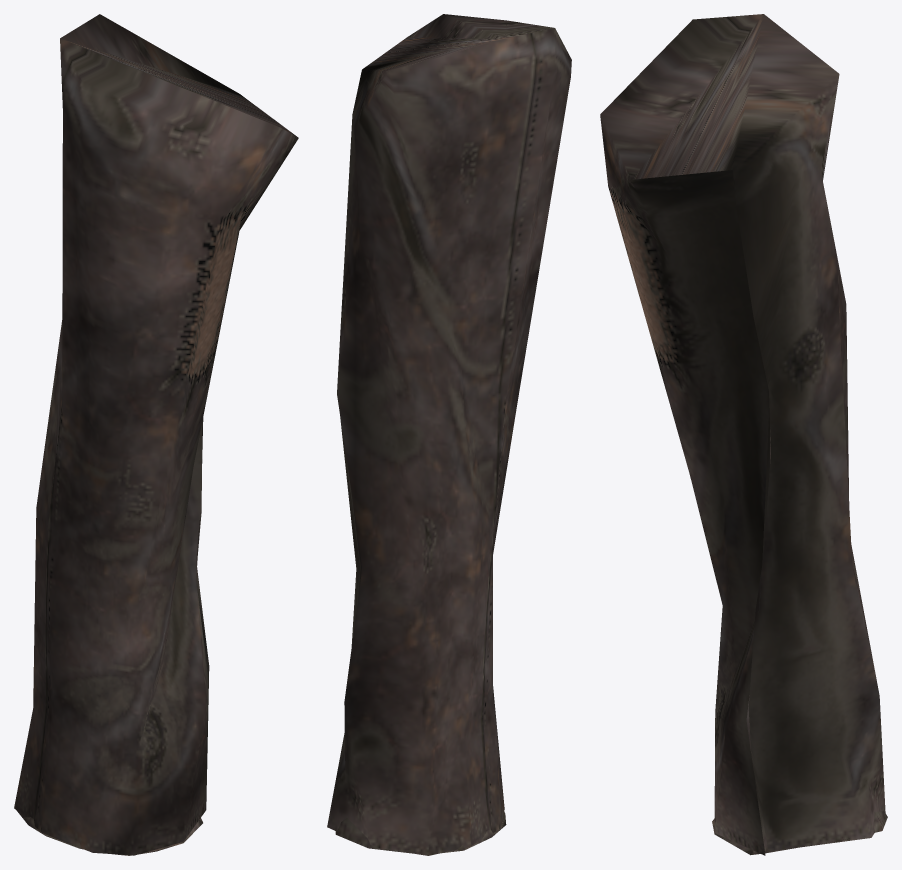
Rendered from gib_leg.gltf.
The picture shows the model from 3 angles, left to right: view 1: azimuth 30°, elevation 25°; view 2: azimuth 150°, elevation 25°; view 3: azimuth 270°, elevation 25°; orthographic projection. The views are drawn at different scales.
Visible parts, largest first — view 1: Object_8.001; view 2: Object_8.001; view 3: Object_8.001.
Part boxes in pixels (x1,y1,x2,y2): Object_8.001: (14,14,298,855); Object_8.001: (327,14,571,855); Object_8.001: (600,14,887,855).
Bounding box in the file's own units: 0.2192 × 0.8798 × 0.2951.
Materials: 1 (1 with a texture image).
